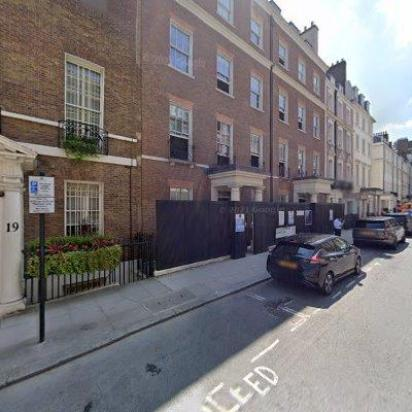stationary-car-onstreet: (266, 234, 362, 296), (350, 216, 406, 252), (382, 210, 412, 238)
